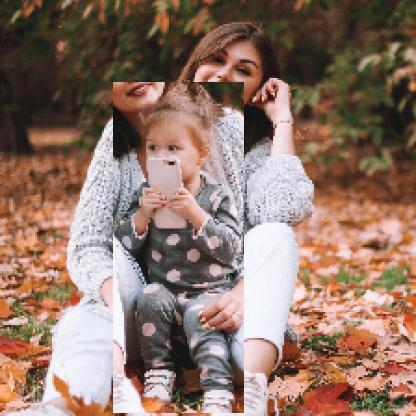child: (114, 83, 246, 415)
